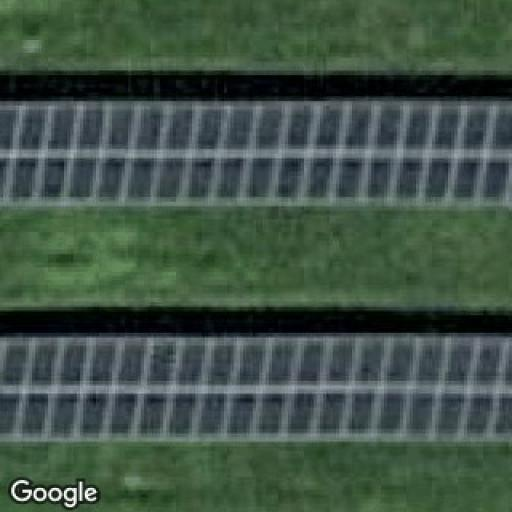solar-panel: (0, 98, 512, 204), (0, 339, 512, 435)
